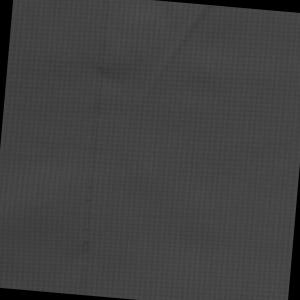Wrinkle: (1, 148, 185, 300), (117, 1, 229, 133)
